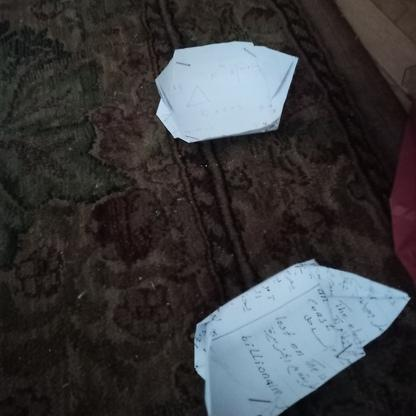paper: (195, 261, 408, 416), (157, 43, 298, 142)
